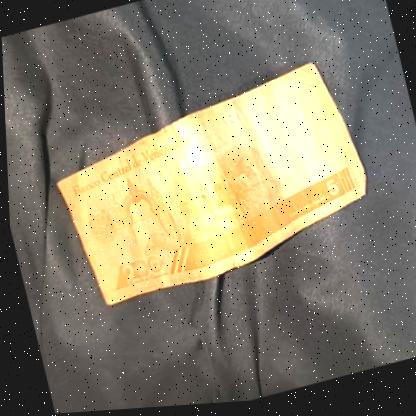five-back-vef: (40, 54, 382, 316)
